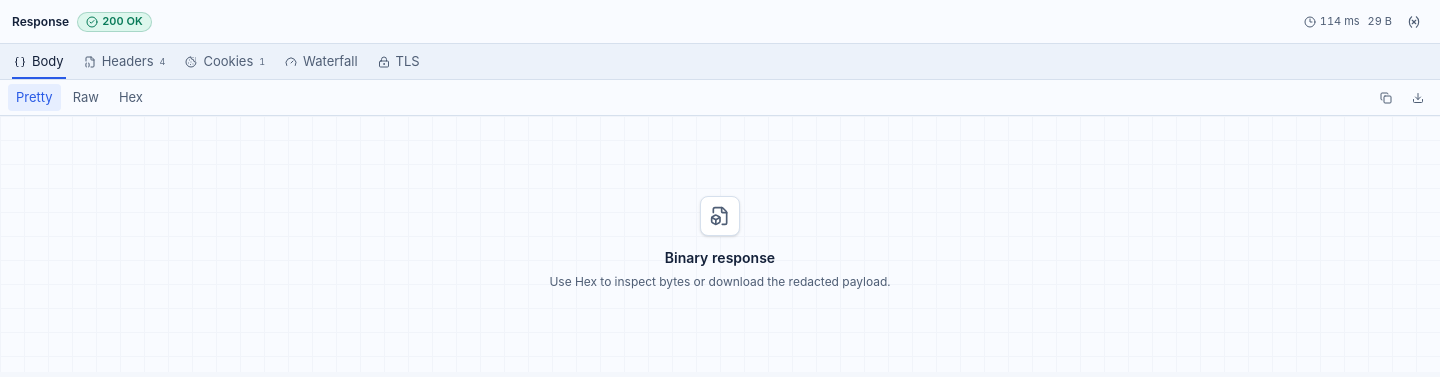
Scenario: Response body presentation › treats binary payloads as bytes and only exposes them in Hex
The width and height of the screenshot is (1440, 377).
Expected: the heading "Binary response" is shown, [665, 248, 775, 268]
Click the button "Hex".
click(131, 98)  # box [111, 84, 151, 111]
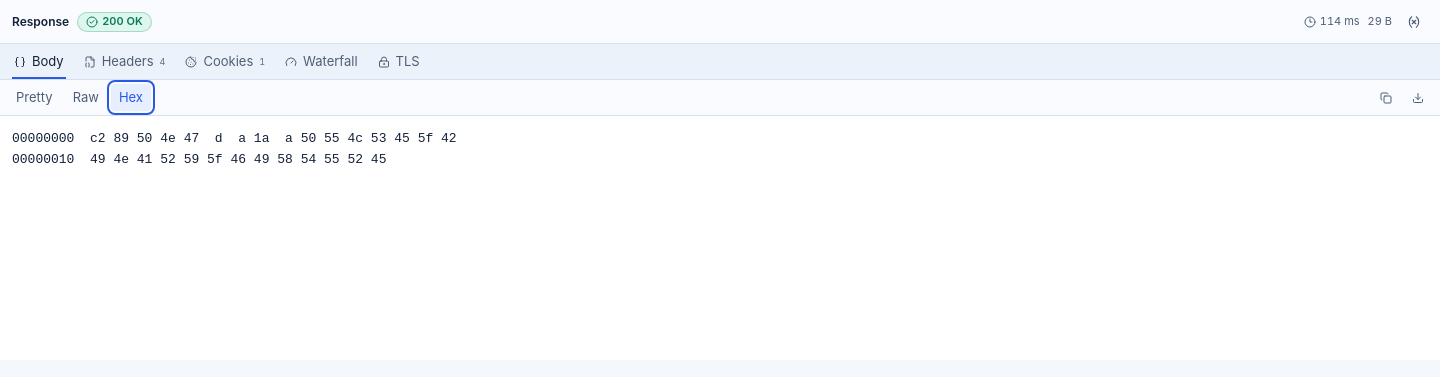
Expected: the text named "Body" shows "00000000", [12, 131, 457, 167]
